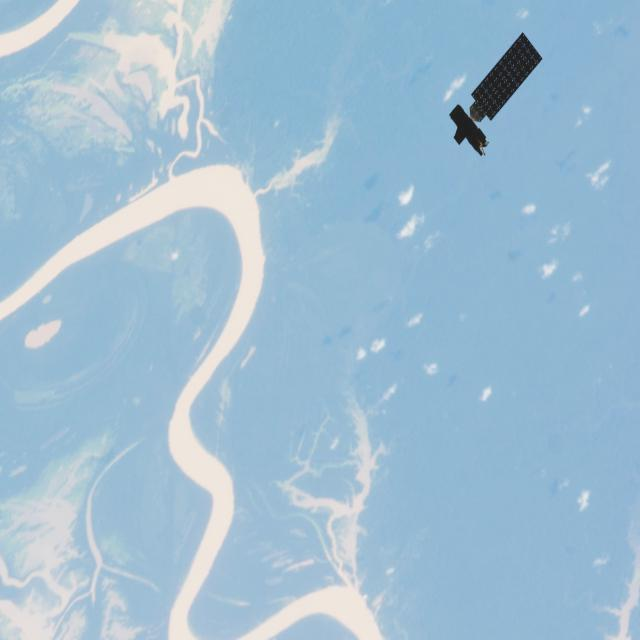satellite: (444, 25, 555, 163)
